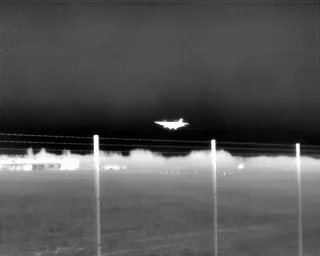AIRPLANE: (152, 115, 191, 132)
